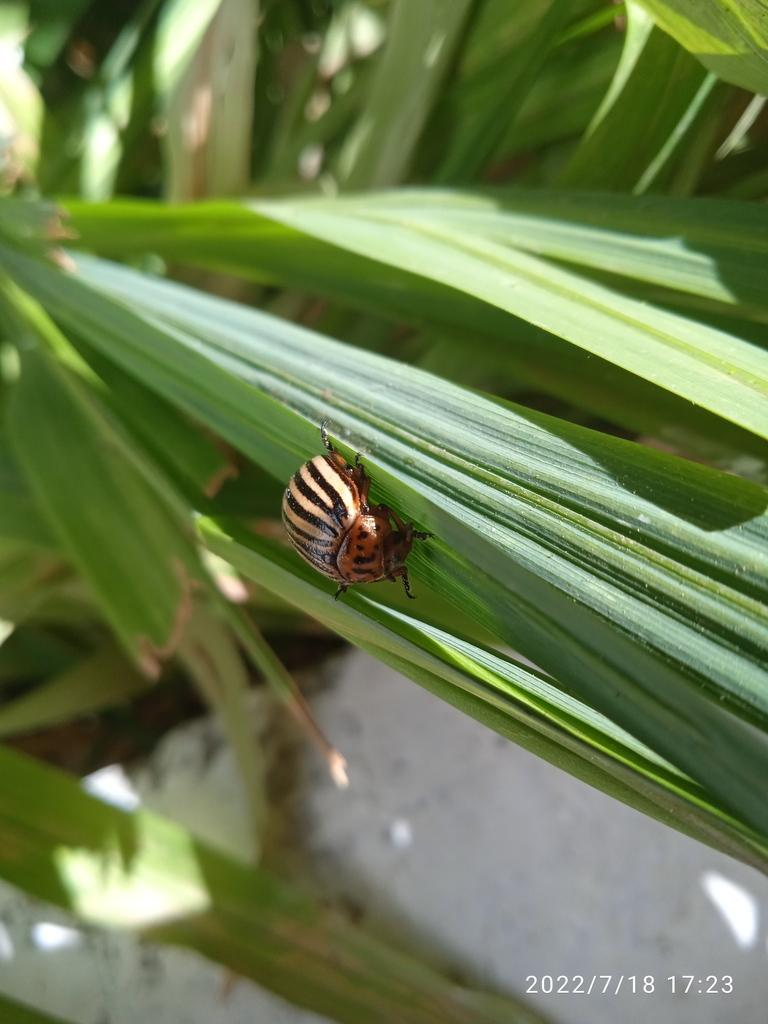potato_beetle: (222, 395, 469, 657)
